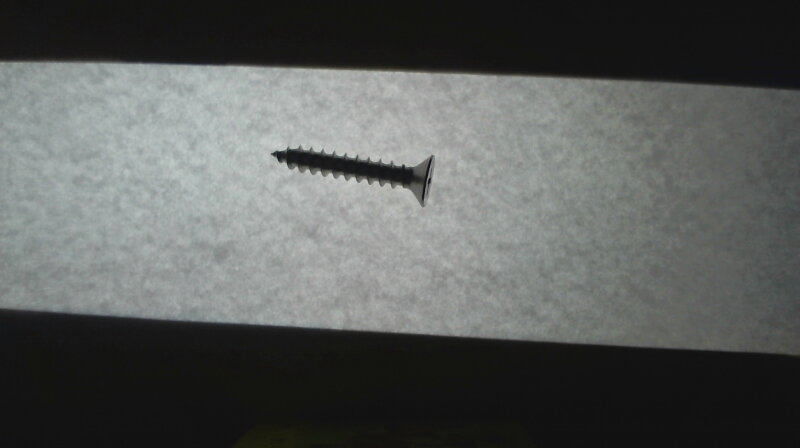S001: (269, 143, 437, 208)
